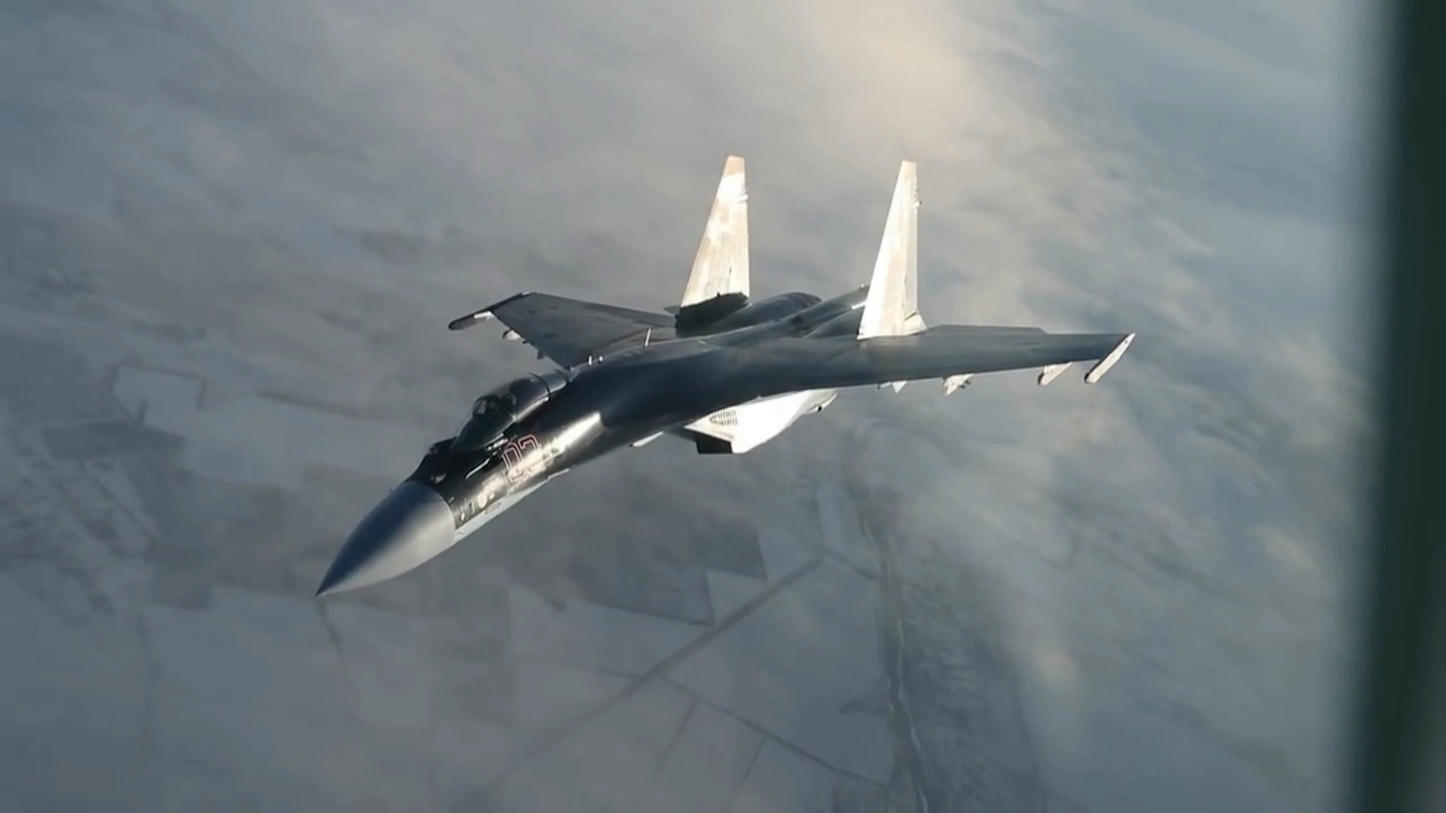Su35: (320, 154, 1136, 594)
